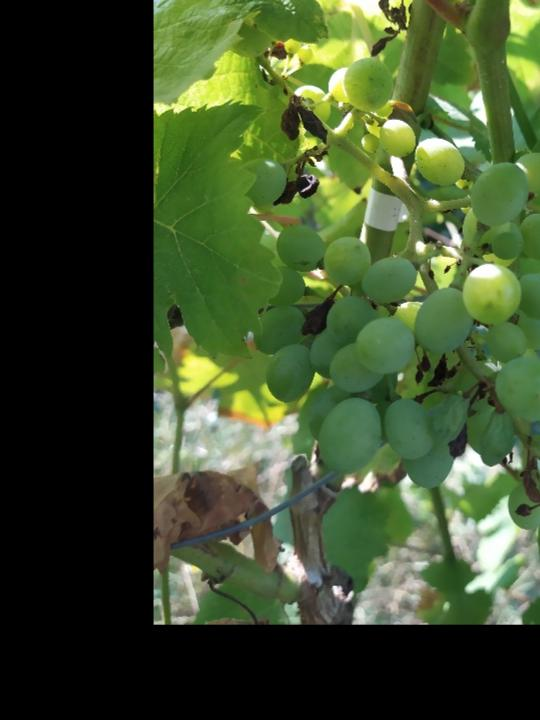grape: (237, 57, 540, 532)
